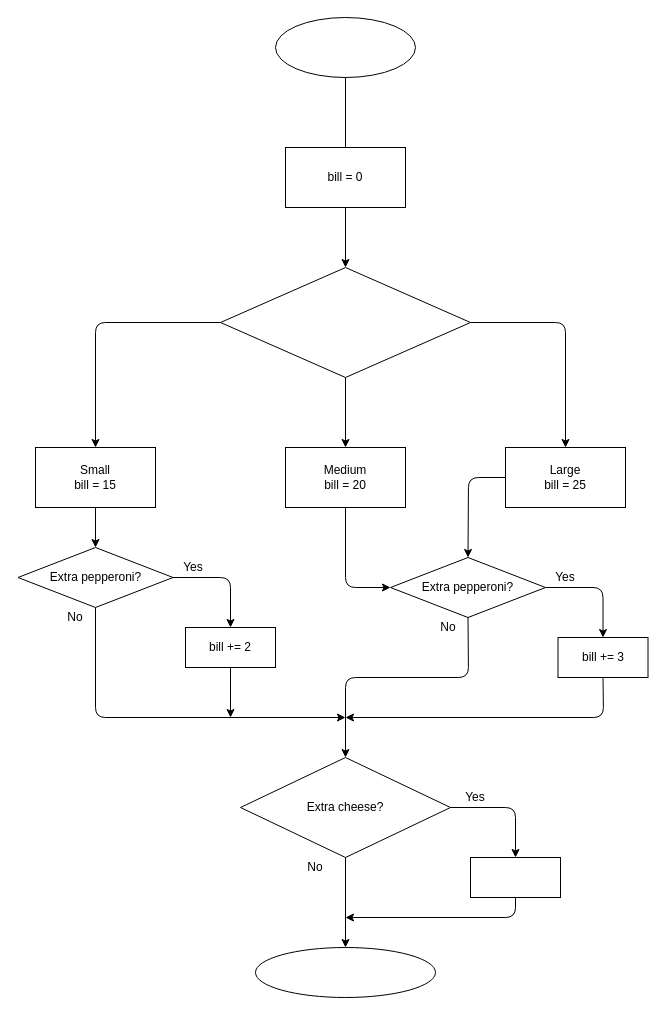
Image size: 665x1015. Some labels were removed from this diagram. The shapes that lost their labels are listed below. From the top down, each one's box as (x1, y1, x2, y2) in pixels, then its label:
(274, 16, 416, 78): START
(220, 266, 470, 378): Choose size of pizza
(470, 856, 560, 898): bill += 1
(254, 946, 436, 998): End
